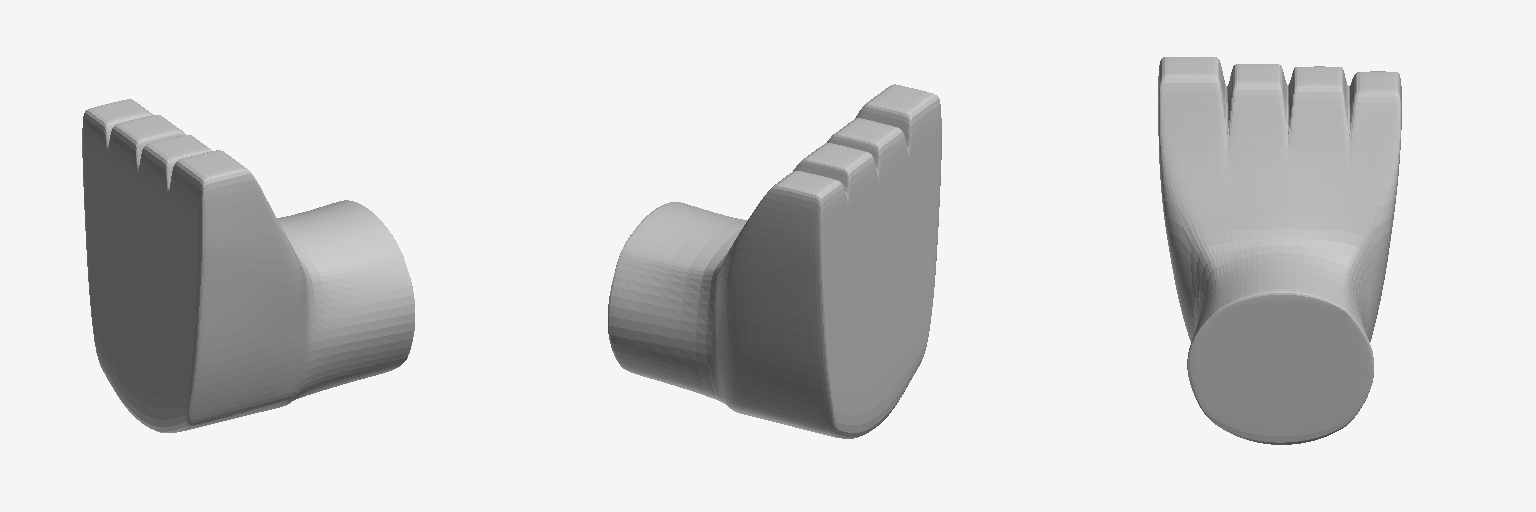
Rendered from Arm_UV.obj.
3 views of the same model, side by side, from view 1: azimuth 30°, elevation 25°; view 2: azimuth 150°, elevation 25°; view 3: azimuth 270°, elevation 25° (orthographic).
Parts seen in each view (by area): view 1: arm_Cube; view 2: arm_Cube; view 3: arm_Cube.
Boxes of the visible parts, x1=… form: arm_Cube: x1=82, y1=99, x2=414, y2=432; arm_Cube: x1=608, y1=84, x2=941, y2=438; arm_Cube: x1=1158, y1=57, x2=1401, y2=444.
Size of the model in its own units: 13 by 16 by 12.